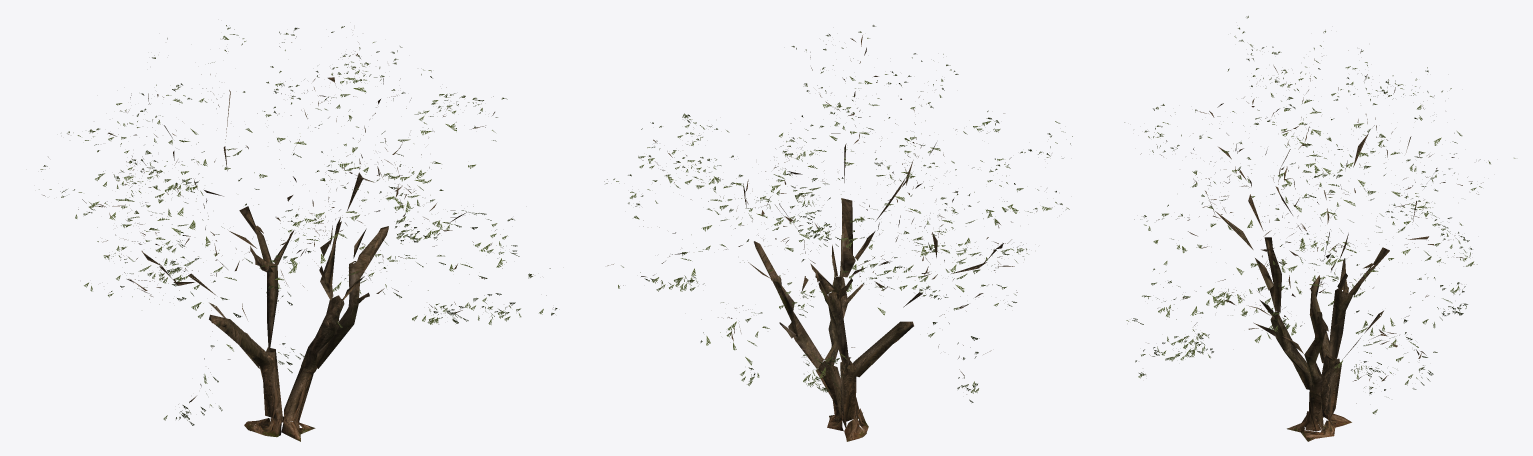
File: tree_jacaranda_mature.glb
The picture shows the model from 3 angles, left to right: view 1: azimuth 30°, elevation 25°; view 2: azimuth 150°, elevation 25°; view 3: azimuth 270°, elevation 25°; orthographic projection. The views are drawn at different scales.
Parts seen in each view (by area): view 1: tree_jacaranda_mature; view 2: tree_jacaranda_mature; view 3: tree_jacaranda_mature.
Part boxes in pixels (x1,y1,x2,y2): tree_jacaranda_mature: [39, 25, 557, 441]; tree_jacaranda_mature: [604, 25, 1072, 441]; tree_jacaranda_mature: [1124, 16, 1515, 441].
Size of what is drawn, in the model's own units: 14.76 by 12 by 11.48.
3 materials, 3 textured.
